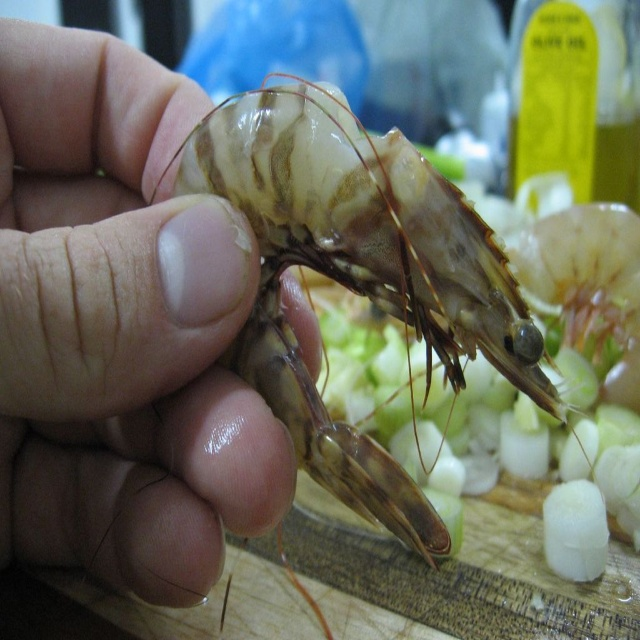Shrimp: (81, 74, 606, 640)
